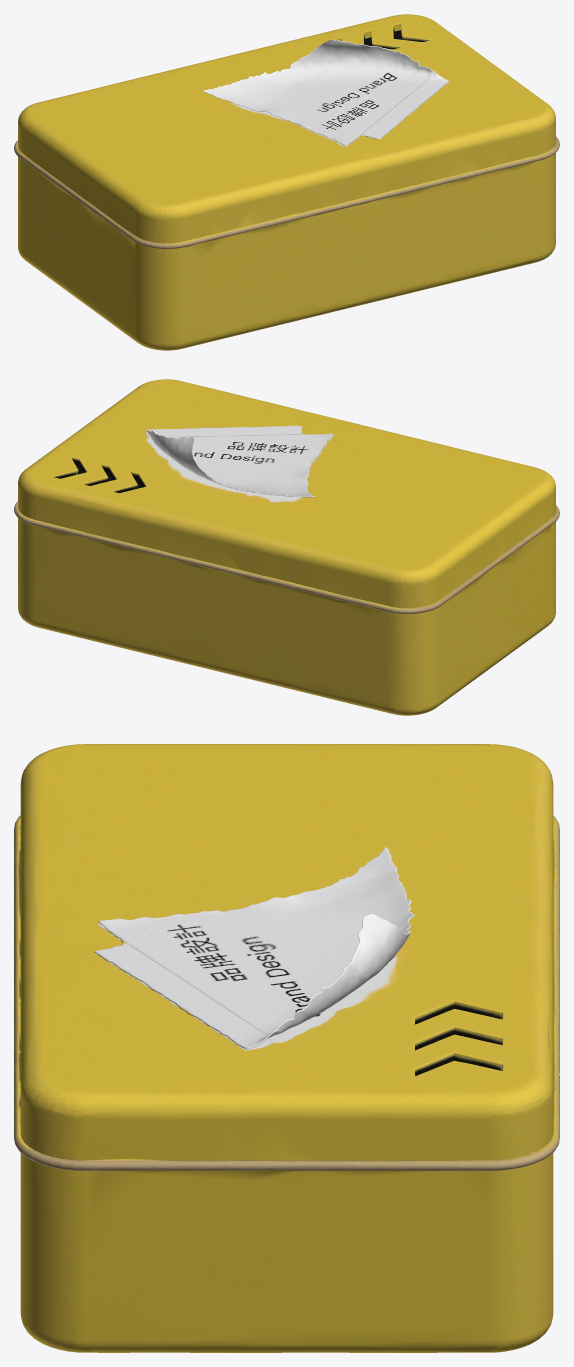
The model's file is yellow-brand-20261024.glb.
The picture shows the model from 3 angles, top to bottom: view 1: azimuth 30°, elevation 25°; view 2: azimuth 150°, elevation 25°; view 3: azimuth 270°, elevation 25°; orthographic projection. The views are drawn at different scales.
Bounding box in the file's own units: 1.9 × 0.7806 × 1.19.
1 material, 1 textured.
